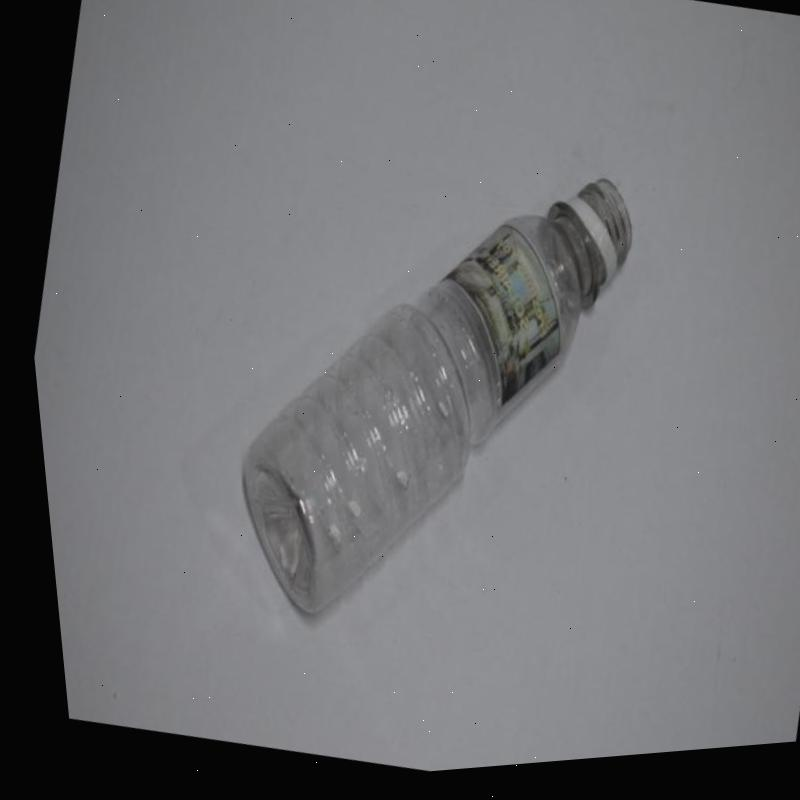botella: (172, 111, 672, 688)
